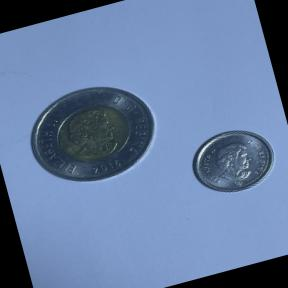coin: (16, 70, 172, 200), (180, 118, 286, 206)
